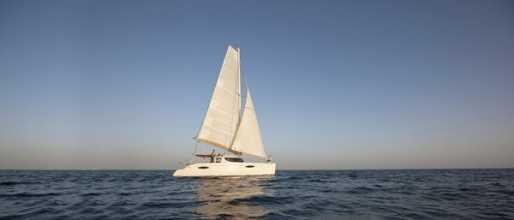fanchuan: (169, 43, 290, 181)
